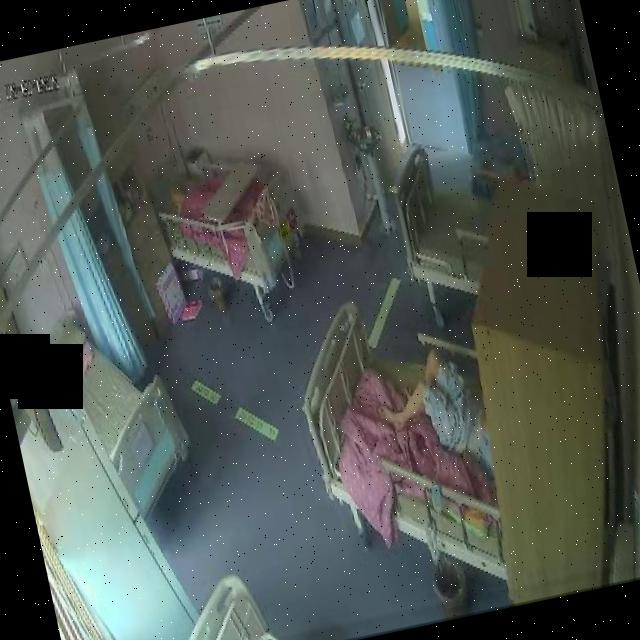bed: (290, 284, 516, 580), (43, 293, 199, 507), (143, 122, 314, 298), (382, 132, 507, 304)
lie: (366, 338, 498, 484)
patient: (366, 336, 501, 486), (164, 172, 201, 214)
